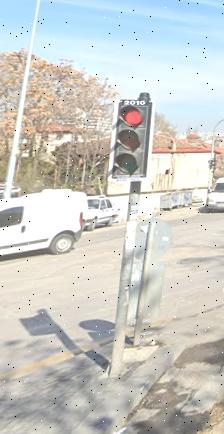redlight: (108, 94, 153, 178)
